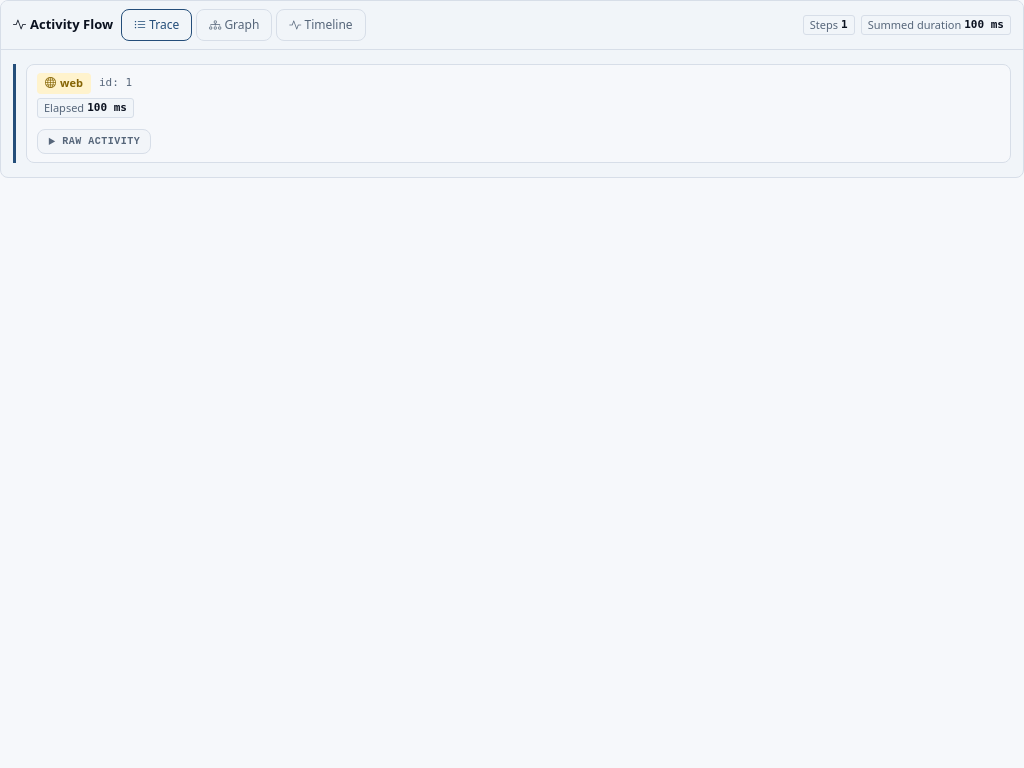
Scenario: AgenticActivityTrace › shows invalid timestamp warnings rather than fabricated intervals
Click the button "Timeline". click: (321, 25)
box: [276,9,366,41]
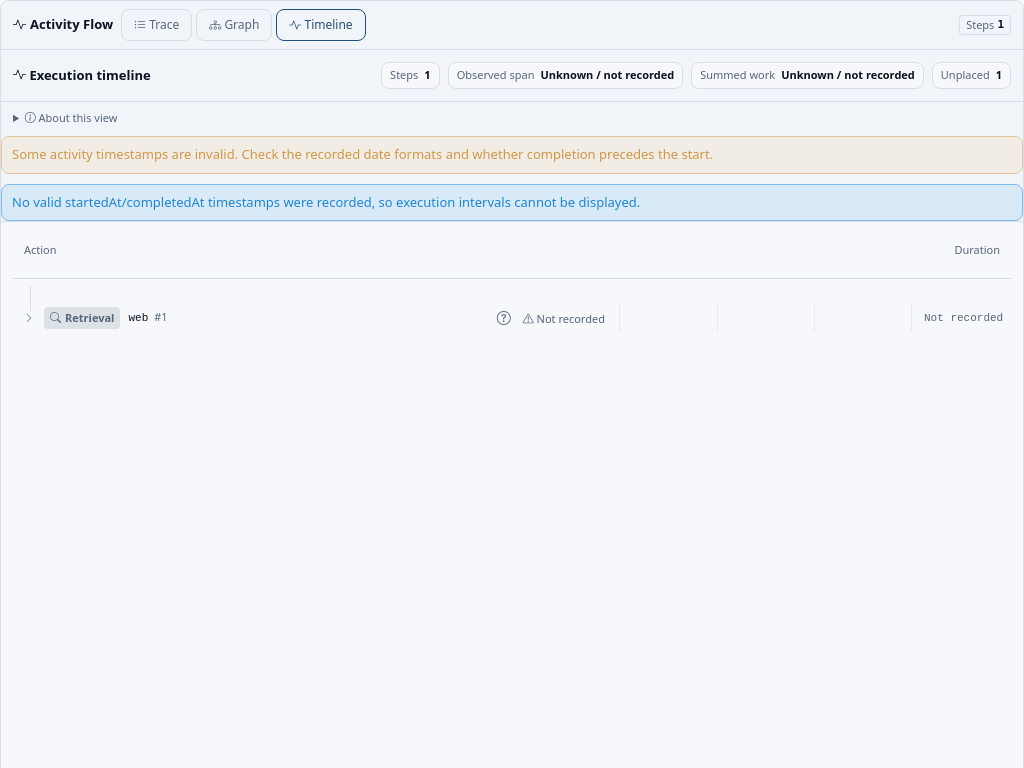
Expected: the message shows "Some activity timestamps are invalid. Check the recorded date formats and whether completion precedes the start.", [12,145,713,163]
